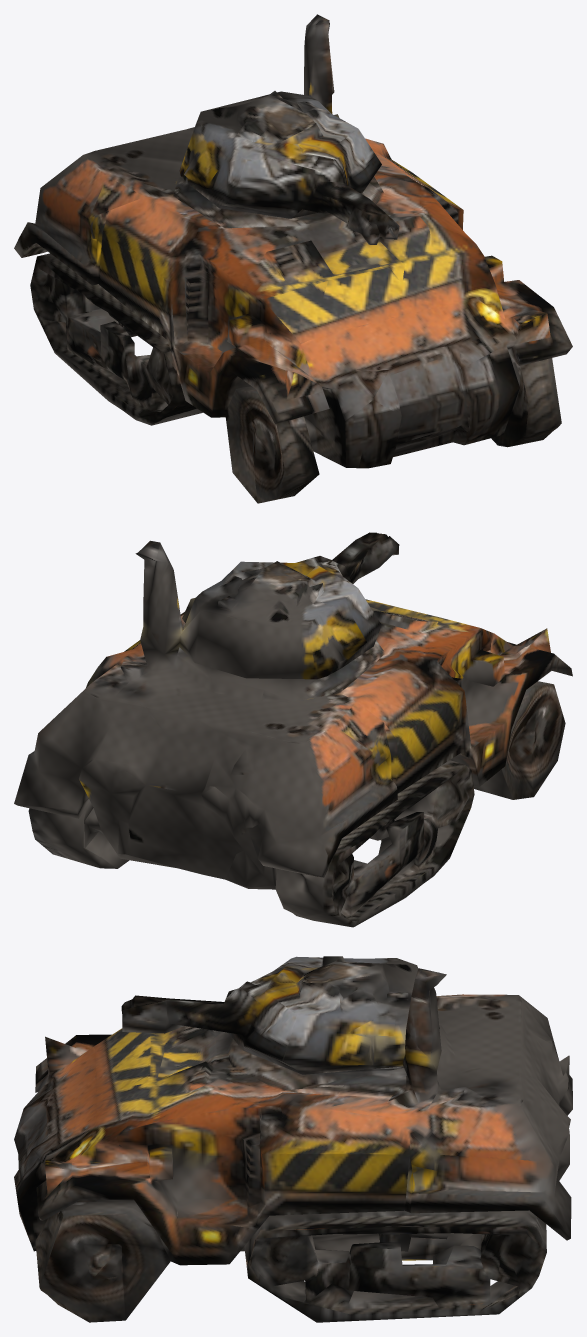
Rendered from grinder_lod2.glb.
3 renders of one model, top to bottom at view 1: azimuth 30°, elevation 25°; view 2: azimuth 150°, elevation 25°; view 3: azimuth 270°, elevation 25°, orthographic. The views are drawn at different scales.
Parts seen in each view (by area): view 1: geometry_0; view 2: geometry_0; view 3: geometry_0.
Boxes of the visible parts, x1,y1,x2,y2 form: geometry_0: [14, 14, 572, 503]; geometry_0: [14, 532, 572, 927]; geometry_0: [14, 956, 572, 1322].
Bounding box in the file's own units: 1.32 × 1.28 × 1.99.
Materials: 1 (1 with a texture image).
